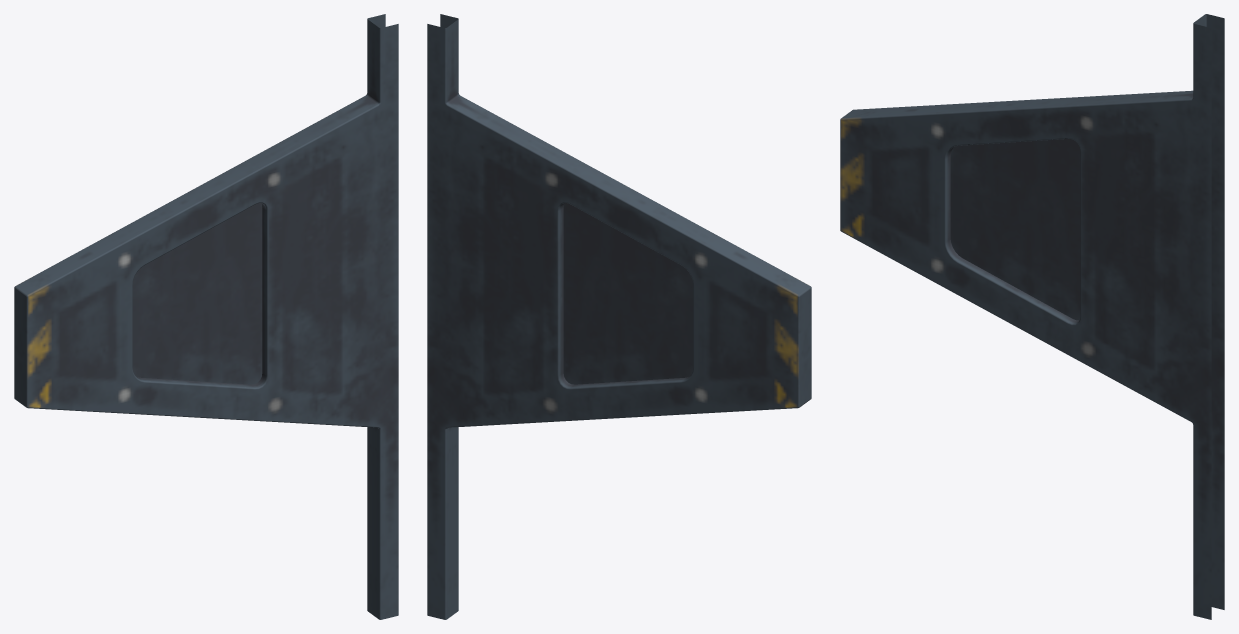
Rendered from GR_CM_BD_Door_001_R.fbx.
The picture shows the model from 3 angles, left to right: view 1: azimuth 30°, elevation 25°; view 2: azimuth 150°, elevation 25°; view 3: azimuth 330°, elevation 25°; orthographic projection.
Visible parts, largest first — view 1: door_03_low.001; view 2: door_03_low.001; view 3: door_03_low.001.
Part boxes in pixels (x1=…): door_03_low.001: x1=14, y1=14, x2=398, y2=619; door_03_low.001: x1=427, y1=14, x2=811, y2=619; door_03_low.001: x1=840, y1=14, x2=1224, y2=619.
Bounding box in the file's own units: 136 × 207 × 8.43.
Materials: 1 (1 with a texture image).
